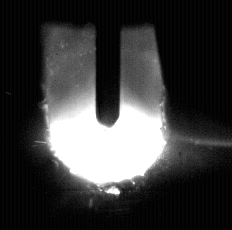arame: (96, 0, 122, 128)
poca: (48, 0, 167, 230)
